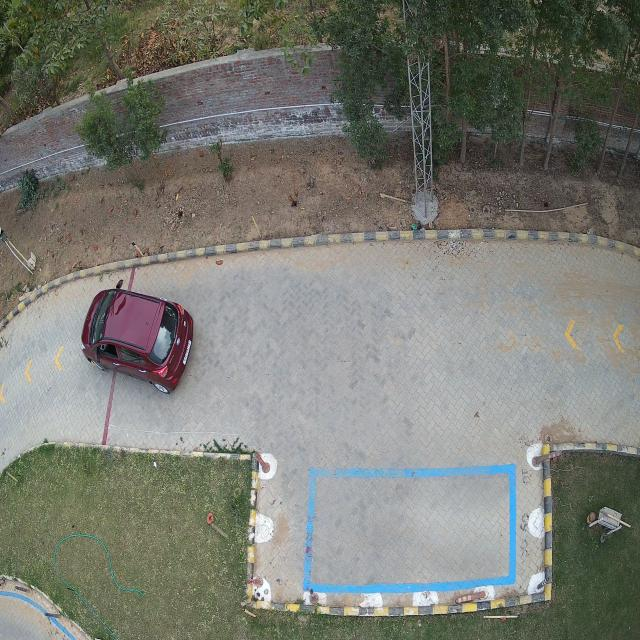car: (81, 280, 194, 393)
